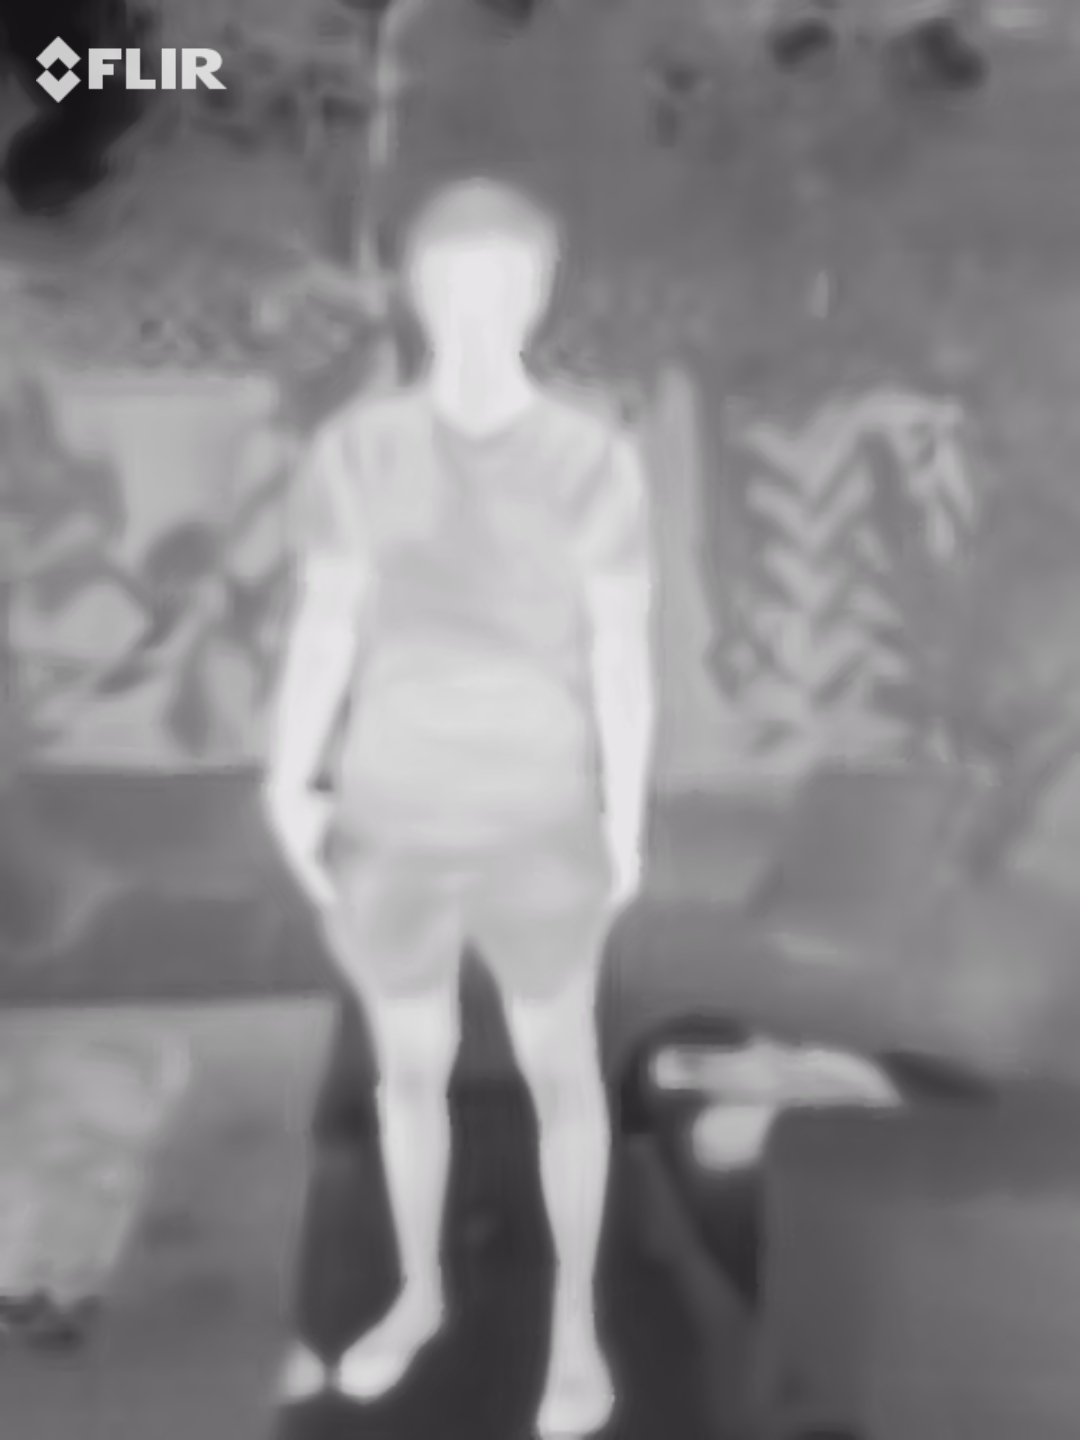head: (404, 175, 560, 365)
